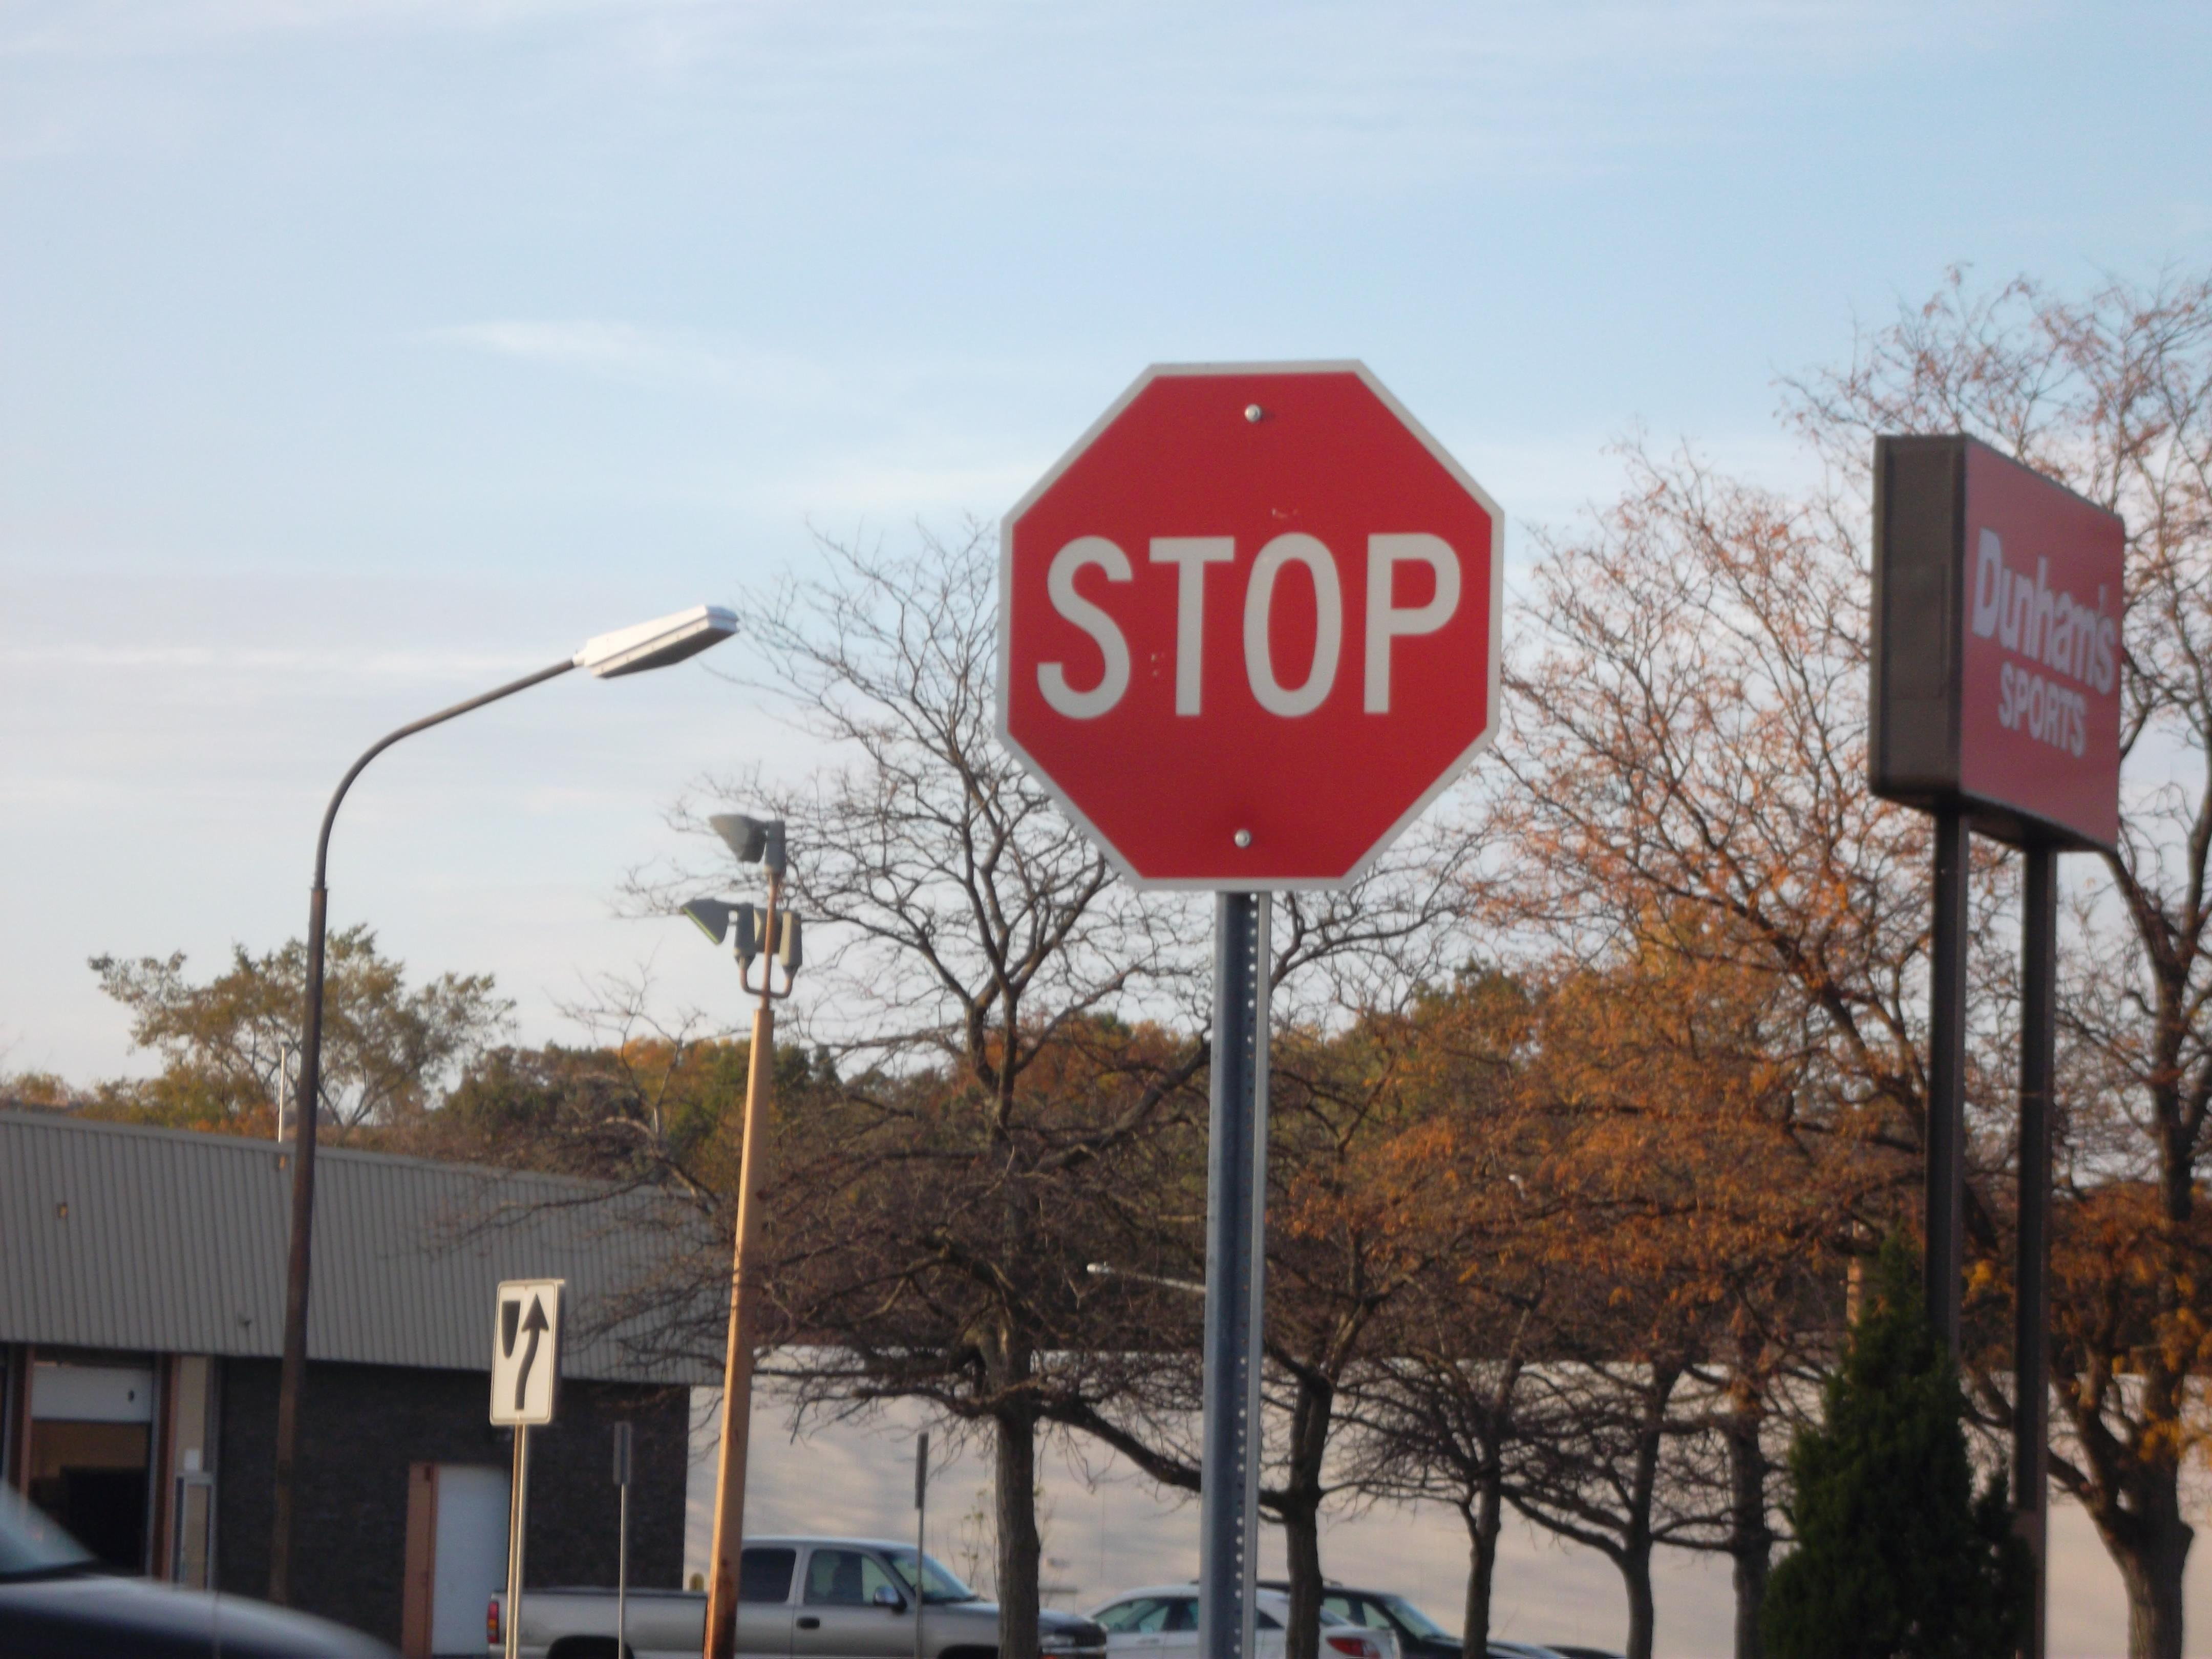regulatory: (486, 1281, 559, 1431)
stop: (996, 361, 1507, 890)
